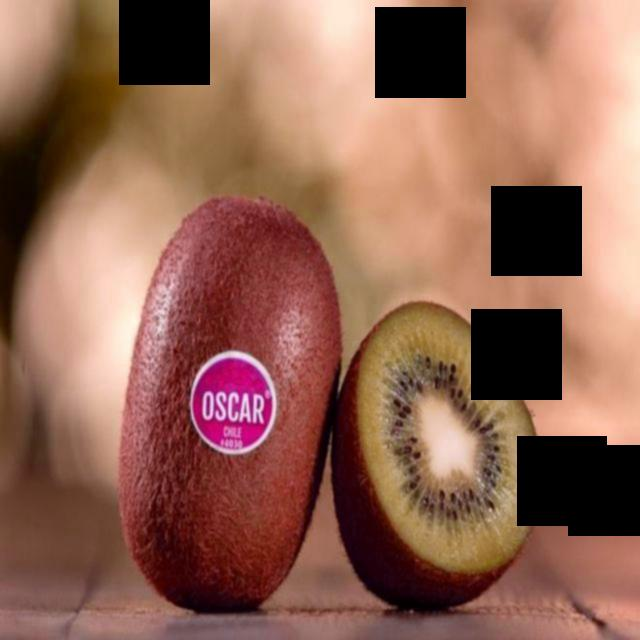kiwi: (120, 196, 345, 617)
